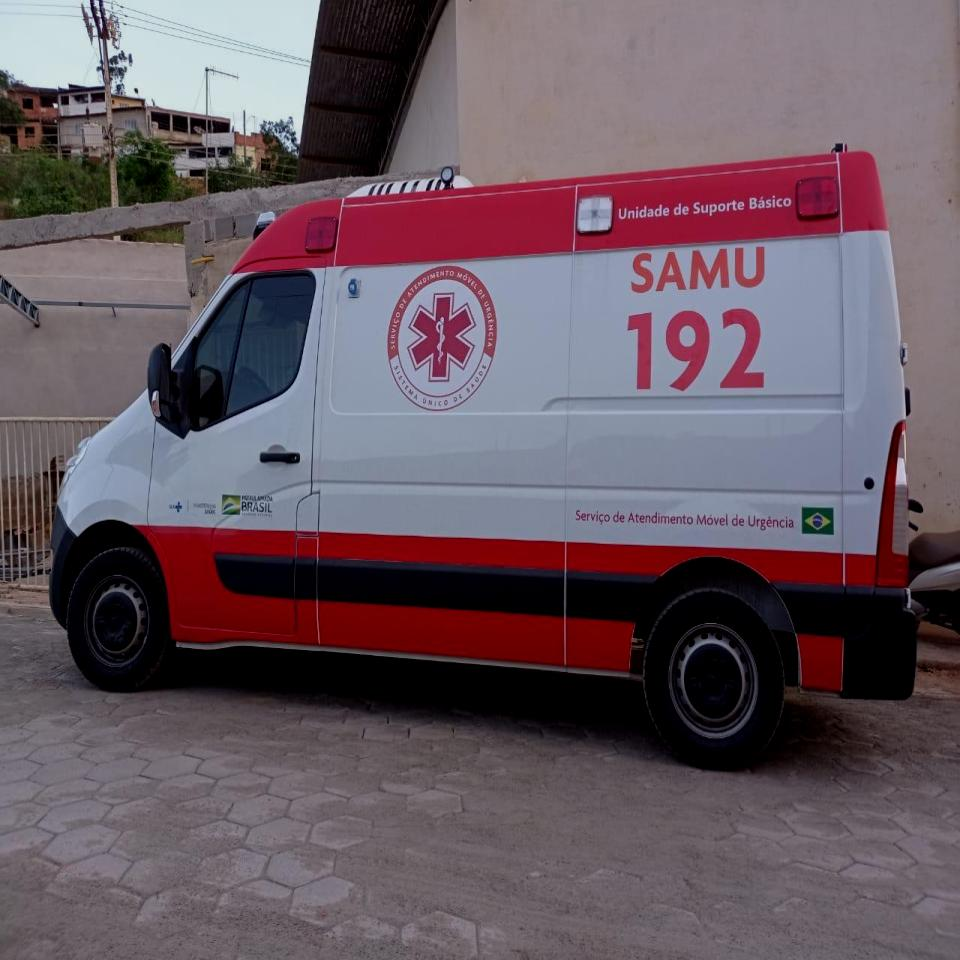ambulancia: (48, 150, 918, 772)
